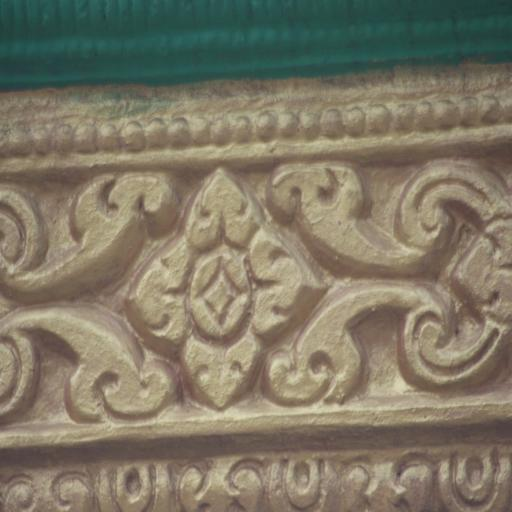hoa: (139, 174, 300, 409)
la: (306, 166, 512, 388), (0, 168, 145, 413)
